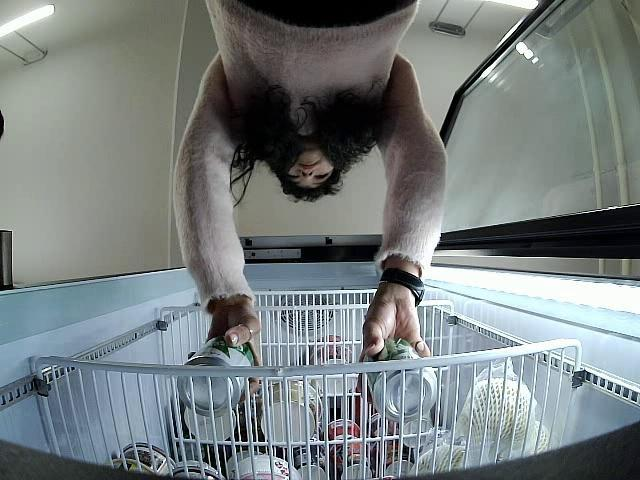12_chilsungCider: (362, 337, 438, 422), (181, 333, 256, 414)
